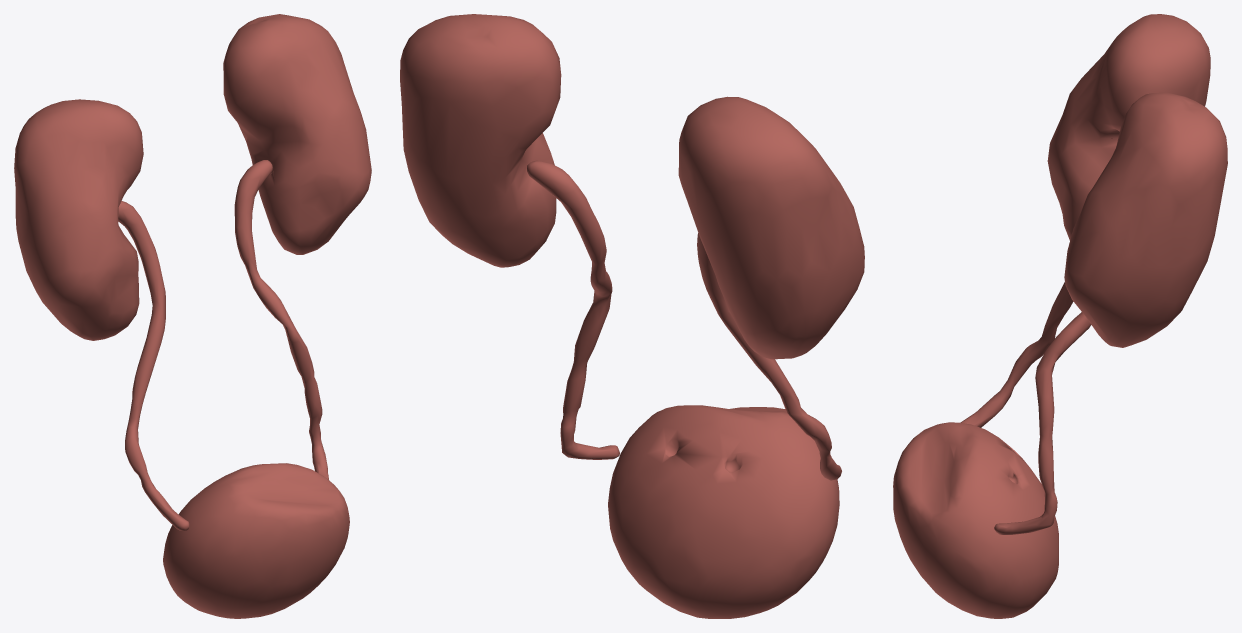
File: pediatric_neonate_female.urinary.LOD1.glb
3 views of the same model, side by side, from view 1: azimuth 30°, elevation 25°; view 2: azimuth 150°, elevation 25°; view 3: azimuth 270°, elevation 25° (orthographic). The views are drawn at different scales.
Visible parts, largest first — view 1: PEDIATRIC.NEONATE.FEMALE.URINARY.KIDNEY_CORTEX.R, PEDIATRIC.NEONATE.FEMALE.URINARY.KIDNEY_CORTEX.L, PEDIATRIC.NEONATE.FEMALE.URINARY.URINARY_BLADDER_WALL, PEDIATRIC.NEONATE.FEMALE.URINARY.URETER.R, PEDIATRIC.NEONATE.FEMALE.URINARY.URETER.L; view 2: PEDIATRIC.NEONATE.FEMALE.URINARY.URINARY_BLADDER_WALL, PEDIATRIC.NEONATE.FEMALE.URINARY.KIDNEY_CORTEX.R, PEDIATRIC.NEONATE.FEMALE.URINARY.KIDNEY_CORTEX.L, PEDIATRIC.NEONATE.FEMALE.URINARY.URETER.L, PEDIATRIC.NEONATE.FEMALE.URINARY.URETER.R; view 3: PEDIATRIC.NEONATE.FEMALE.URINARY.KIDNEY_CORTEX.L, PEDIATRIC.NEONATE.FEMALE.URINARY.URINARY_BLADDER_WALL, PEDIATRIC.NEONATE.FEMALE.URINARY.KIDNEY_CORTEX.R, PEDIATRIC.NEONATE.FEMALE.URINARY.URETER.L, PEDIATRIC.NEONATE.FEMALE.URINARY.URETER.R.
Boxes of the visible parts, x1,y1,x2,y2 form: PEDIATRIC.NEONATE.FEMALE.URINARY.KIDNEY_CORTEX.R: (14, 99, 143, 340); PEDIATRIC.NEONATE.FEMALE.URINARY.KIDNEY_CORTEX.L: (223, 14, 371, 254); PEDIATRIC.NEONATE.FEMALE.URINARY.URINARY_BLADDER_WALL: (163, 463, 349, 618); PEDIATRIC.NEONATE.FEMALE.URINARY.URETER.R: (118, 201, 189, 530); PEDIATRIC.NEONATE.FEMALE.URINARY.URETER.L: (234, 160, 328, 479); PEDIATRIC.NEONATE.FEMALE.URINARY.URINARY_BLADDER_WALL: (608, 405, 839, 618); PEDIATRIC.NEONATE.FEMALE.URINARY.KIDNEY_CORTEX.R: (678, 96, 864, 359); PEDIATRIC.NEONATE.FEMALE.URINARY.KIDNEY_CORTEX.L: (400, 14, 561, 267); PEDIATRIC.NEONATE.FEMALE.URINARY.URETER.L: (527, 160, 619, 459); PEDIATRIC.NEONATE.FEMALE.URINARY.URETER.R: (697, 233, 841, 480); PEDIATRIC.NEONATE.FEMALE.URINARY.KIDNEY_CORTEX.L: (1064, 92, 1227, 347); PEDIATRIC.NEONATE.FEMALE.URINARY.URINARY_BLADDER_WALL: (893, 422, 1058, 618); PEDIATRIC.NEONATE.FEMALE.URINARY.KIDNEY_CORTEX.R: (1047, 14, 1210, 240); PEDIATRIC.NEONATE.FEMALE.URINARY.URETER.L: (994, 312, 1091, 534); PEDIATRIC.NEONATE.FEMALE.URINARY.URETER.R: (960, 282, 1073, 427).
Size of the model in its own units: 0.0724 by 0.1046 by 0.0564.
